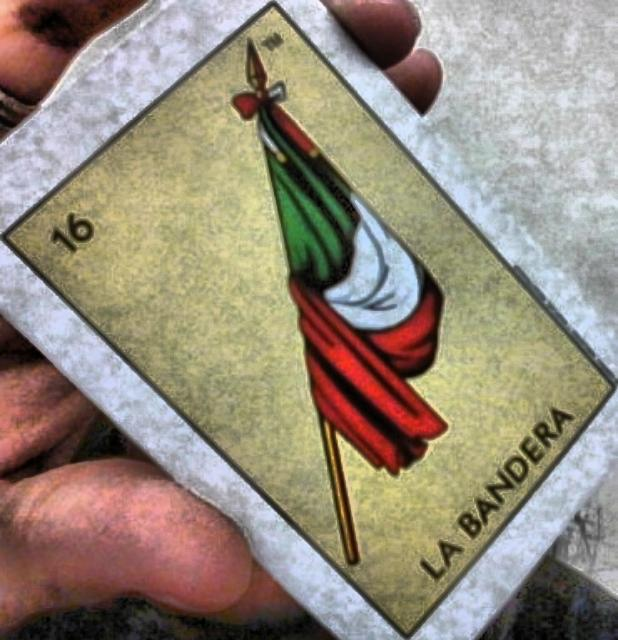La Bandera: (8, 7, 616, 636)
